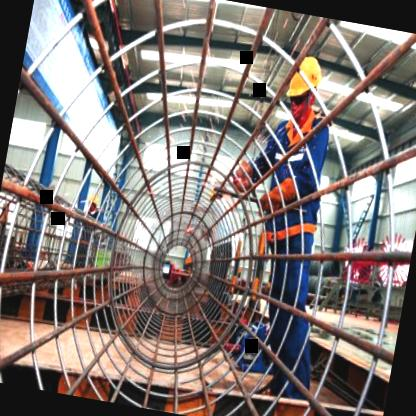helmet: (286, 48, 327, 114)
